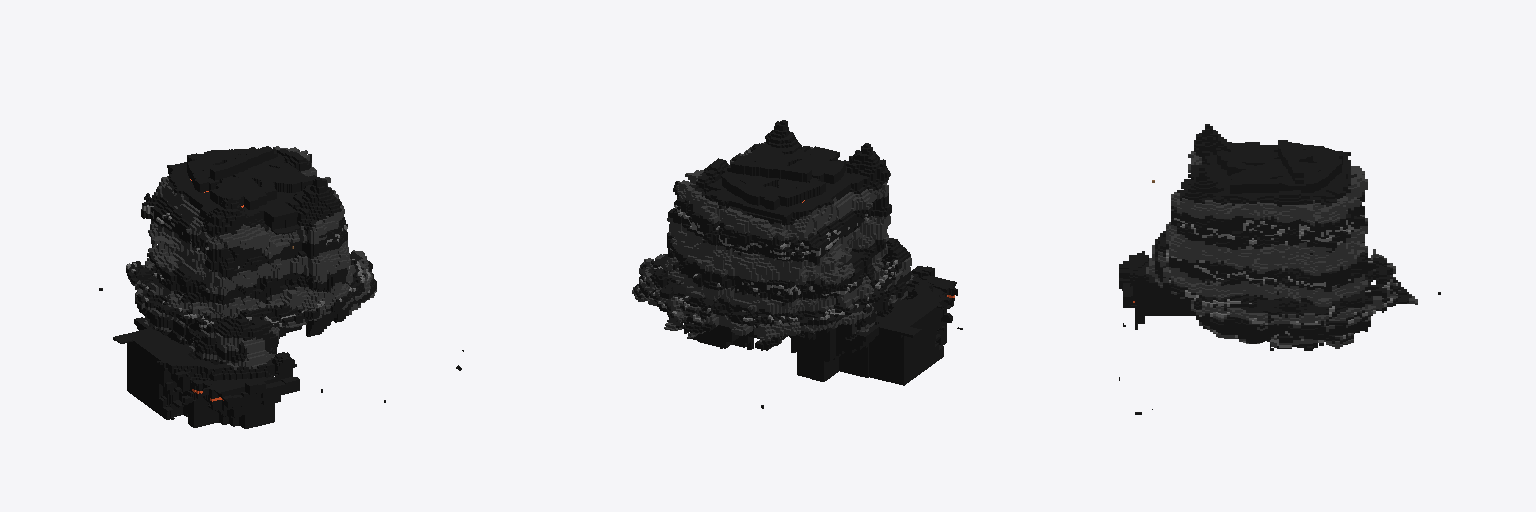
The picture shows the model from 3 angles: view 1: azimuth 30°, elevation 25°; view 2: azimuth 150°, elevation 25°; view 3: azimuth 270°, elevation 25°; orthographic projection.
Parts seen in each view (by area): view 1: object 1; view 2: object 1; view 3: object 1.
Part boxes in pixels (x1,y1,x2,y2): object 1: (99, 146, 463, 428); object 1: (632, 120, 962, 408); object 1: (1119, 124, 1440, 414).
Bounding box in the file's own units: 24.1 × 16 × 23.3.
1 materials, 1 textured.